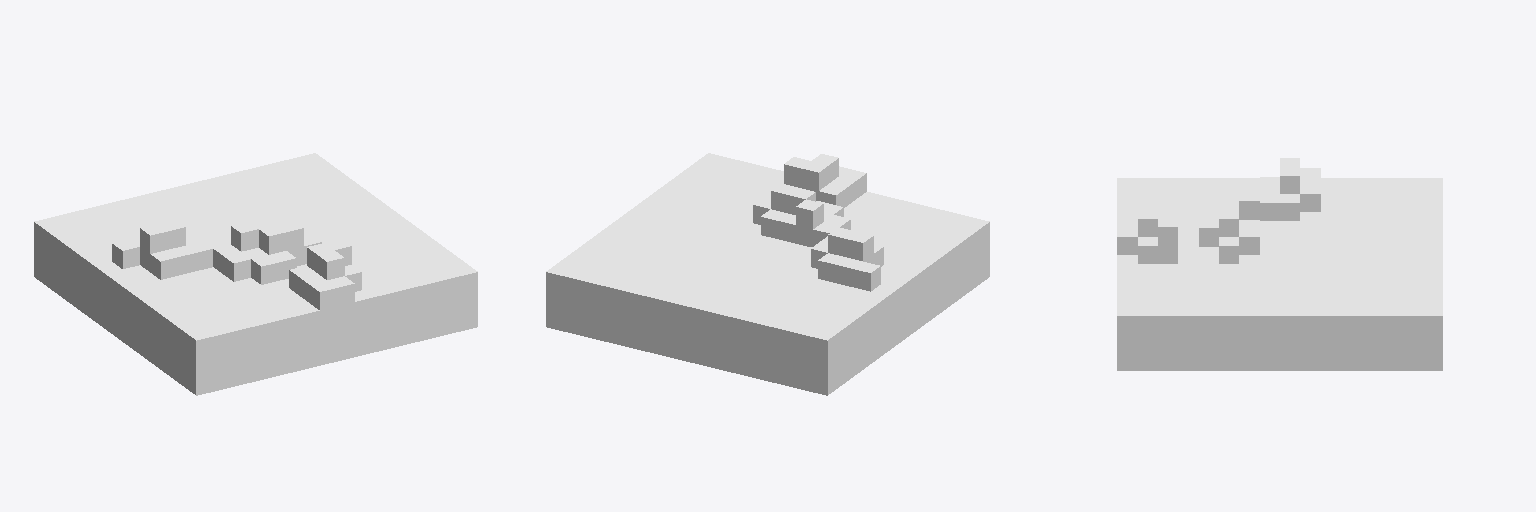
File: corner.obj
3 renders of one model, left to right at view 1: azimuth 30°, elevation 25°; view 2: azimuth 150°, elevation 25°; view 3: azimuth 270°, elevation 25°, orthographic.
Parts seen in each view (by area): view 1: corner; view 2: corner; view 3: corner.
Part boxes in pixels (x1,y1,x2,y2): corner: (34,153,477,395); corner: (546,153,989,395); corner: (1117,158,1442,370).
Bounding box in the file's own units: 16 × 5 × 16.